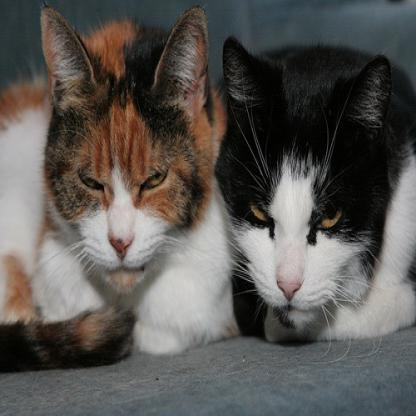cat: (0, 7, 227, 367), (212, 34, 415, 345)
